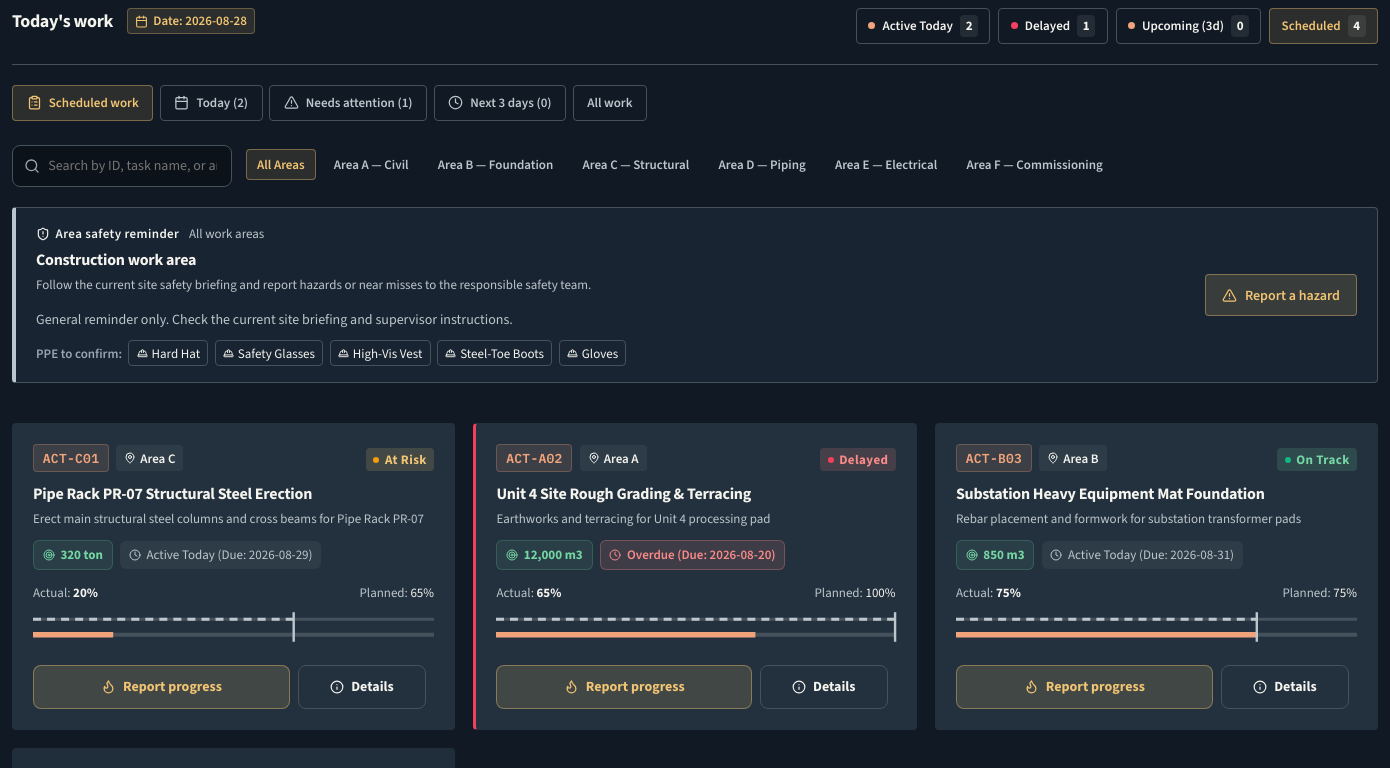
Test: TodayWorkView Component (Pass 31) › 3. Instant search filters tasks in real-time
The image size is (1390, 768).
expect the text "ACT-C01" is shown: met, box [33,444,109,472]
expect the text "ACT-A02" is shown: met, box [496,444,572,472]
Type "Grading" into the field with placeholder "Search by ID, task name, or area...".
click(122, 166); type("Grading")  # box [12,145,232,187]
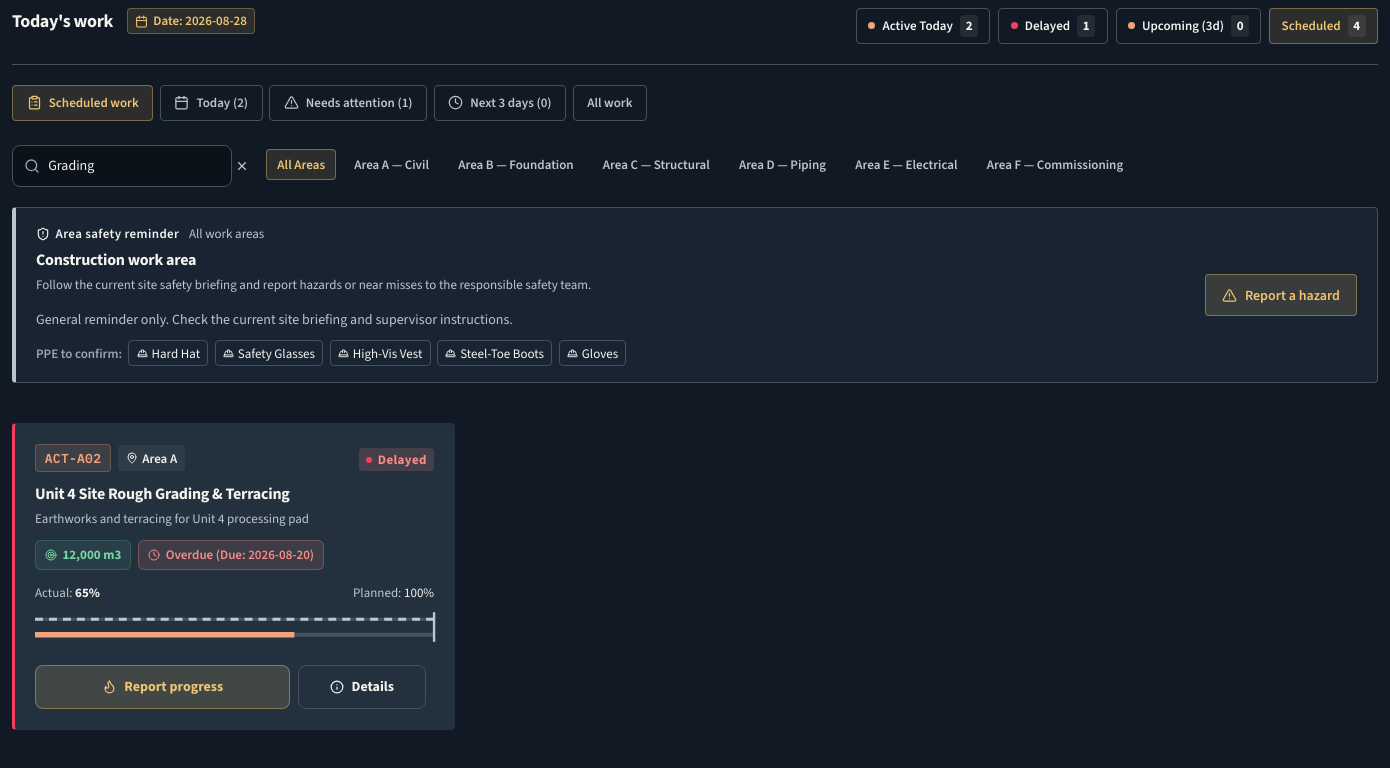
expect the text "ACT-A02" is shown: met, box [35,444,111,472]
expect the text "ACT-C01" is gone: met
expect the text "ACT-B03" is gone: met
